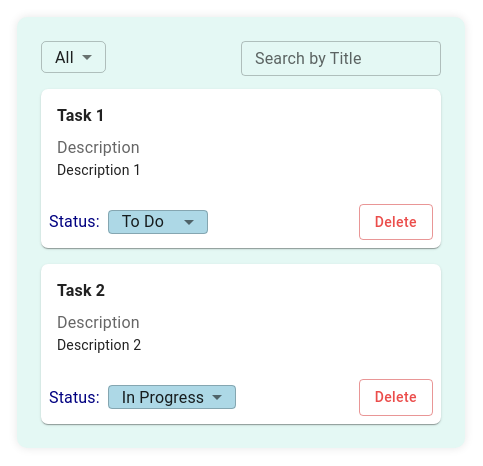
Scenario: searches tasks by title
Type "Task 2" into the field at {"x": 341, "y": 58}, box [241,41,441,76]
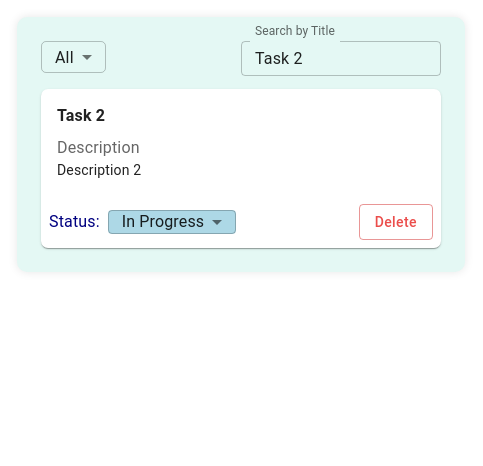
Check: the text "Task 2" is shown, box [57,106,105,125]
